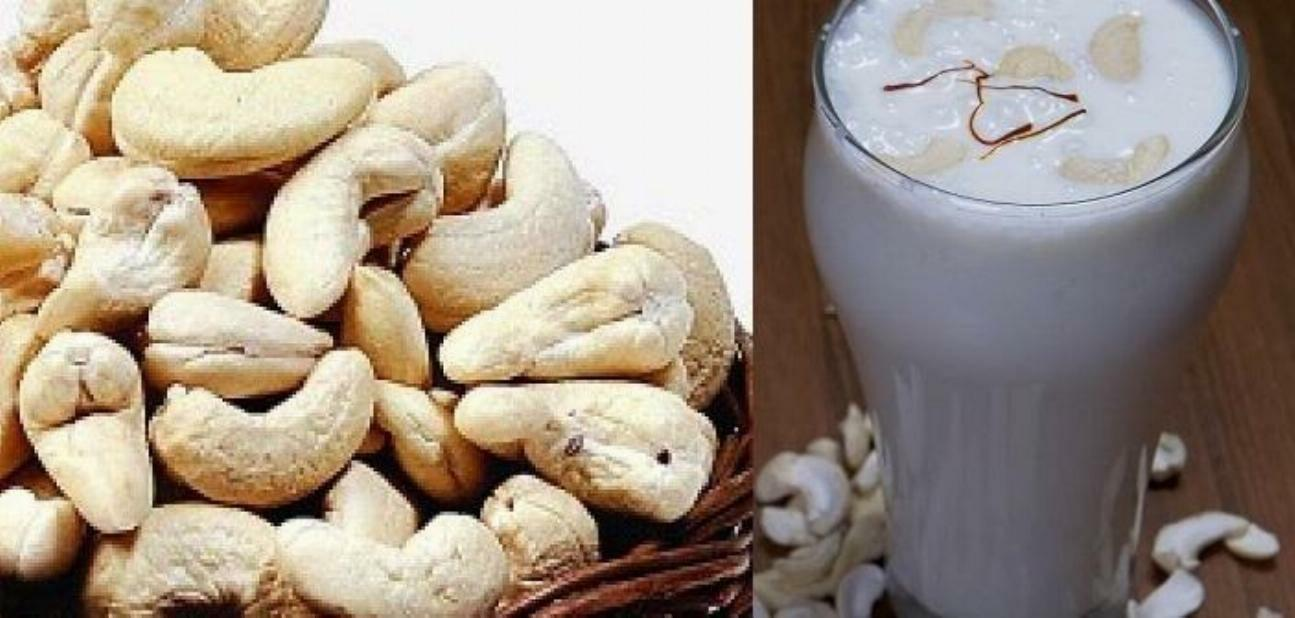Lassi: (803, 0, 1253, 618)
